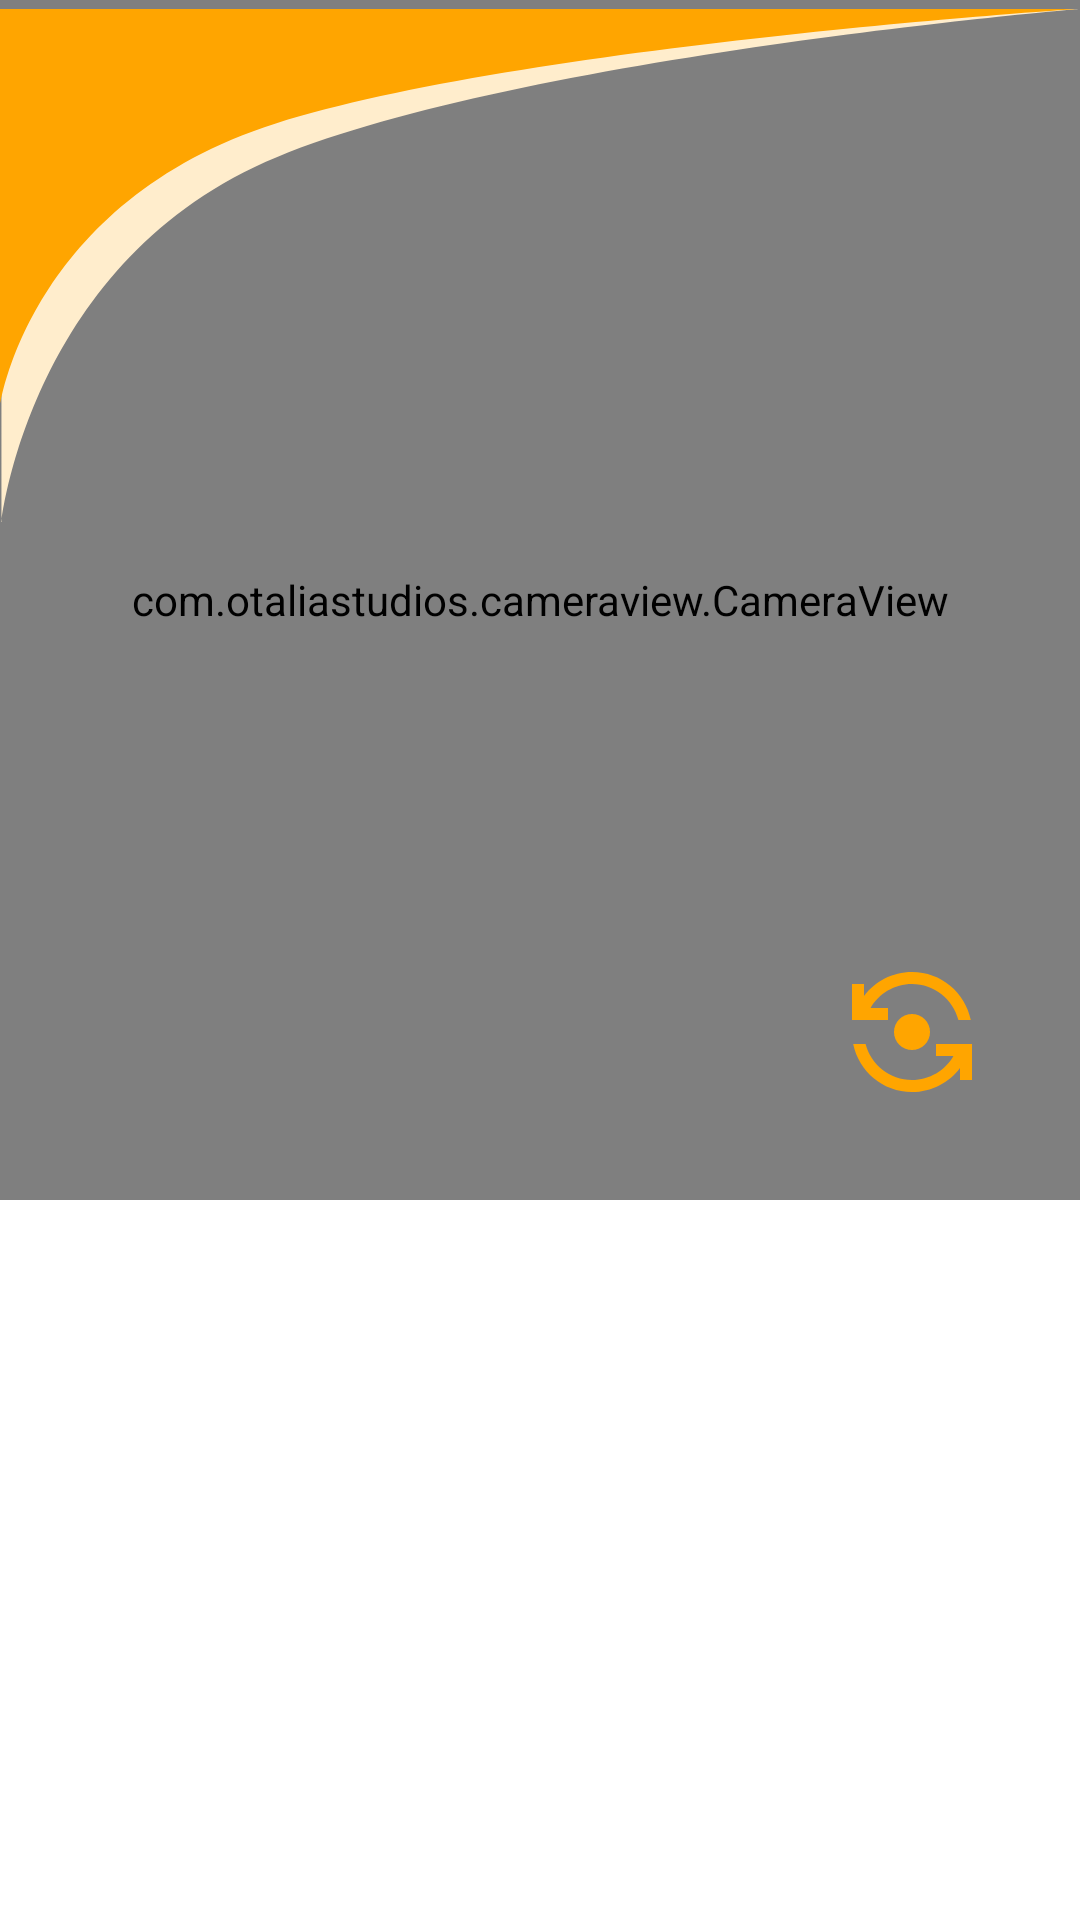

Icons on this 1080w x 1920h Android screen, each with its box as BBox(x1, y1, x2, y2):
camera flip: BBox(852, 972, 972, 1092)
